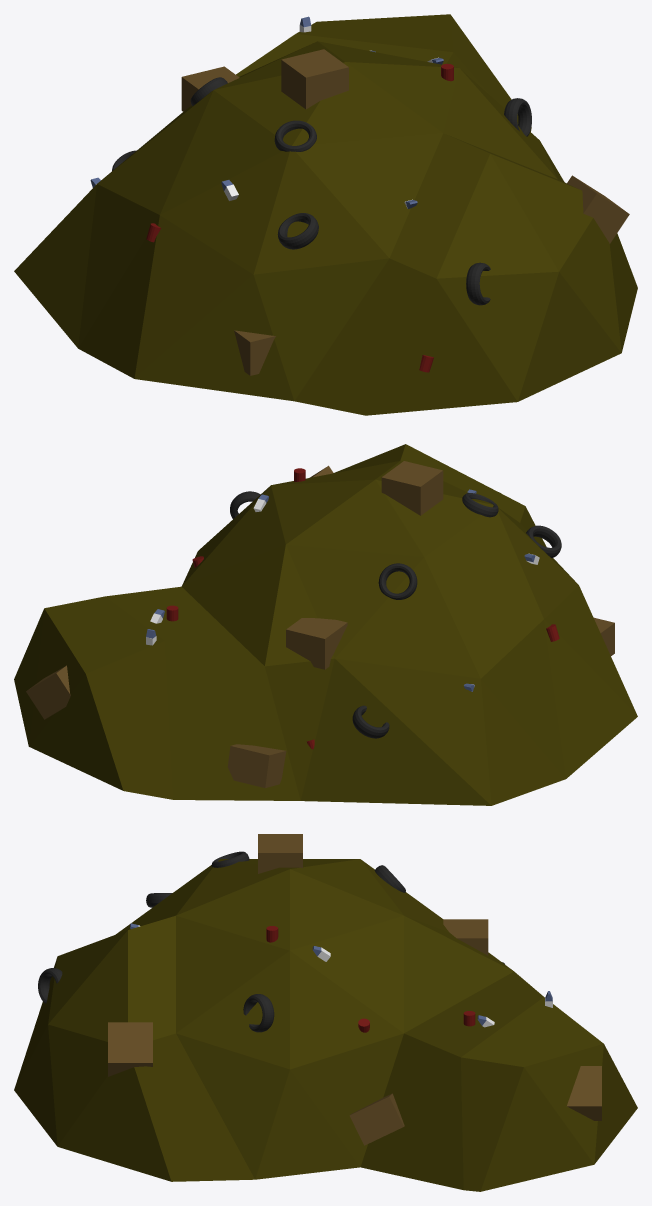
File: TrashPile1.fbx
3 renders of one model, top to bottom at view 1: azimuth 30°, elevation 25°; view 2: azimuth 150°, elevation 25°; view 3: azimuth 270°, elevation 25°, orthographic. The views are drawn at different scales.
Visible parts, largest first — view 1: Icosphere, Cube.3855, Cube.3856, Cube.3854, Cube.419, Torus.019, Torus.020, Torus.022, Torus.023; view 2: Icosphere, Cube.3855, Cube.419, Cube.3858, Cube.3859, Torus.021, Torus.019, Torus, Torus.020; view 3: Icosphere, Cube.3856, Cube.3857, Cube.3855, Cube.3859, Cube.419, Torus.022.
Part boxes in pixels (x1=…): Icosphere: x1=14, y1=14, x2=637, y2=415; Cube.3855: x1=281, y1=49, x2=348, y2=109; Cube.3856: x1=567, y1=175, x2=629, y2=243; Cube.3854: x1=234, y1=330, x2=275, y2=375; Cube.419: x1=181, y1=66, x2=239, y2=111; Torus.019: x1=277, y1=213, x2=318, y2=249; Torus.020: x1=274, y1=120, x2=316, y2=151; Torus.022: x1=504, y1=98, x2=531, y2=136; Torus.023: x1=466, y1=262, x2=490, y2=305; Icosphere: x1=14, y1=444, x2=637, y2=805; Cube.3855: x1=381, y1=461, x2=443, y2=515; Cube.419: x1=286, y1=618, x2=347, y2=669; Cube.3858: x1=227, y1=744, x2=286, y2=788; Cube.3859: x1=26, y1=665, x2=70, y2=719; Torus.021: x1=378, y1=563, x2=417, y2=599; Torus.019: x1=526, y1=525, x2=561, y2=557; Torus: x1=352, y1=705, x2=389, y2=738; Torus.020: x1=462, y1=493, x2=498, y2=517; Icosphere: x1=14, y1=859, x2=637, y2=1191; Cube.3856: x1=108, y1=1022, x2=152, y2=1076; Cube.3857: x1=349, y1=1093, x2=404, y2=1145; Cube.3855: x1=258, y1=834, x2=302, y2=873; Cube.3859: x1=567, y1=1066, x2=601, y2=1120; Cube.419: x1=443, y1=919, x2=488, y2=955; Torus.022: x1=243, y1=994, x2=274, y2=1032.
Size of the model in its own units: 14588 by 6713 by 16064.
